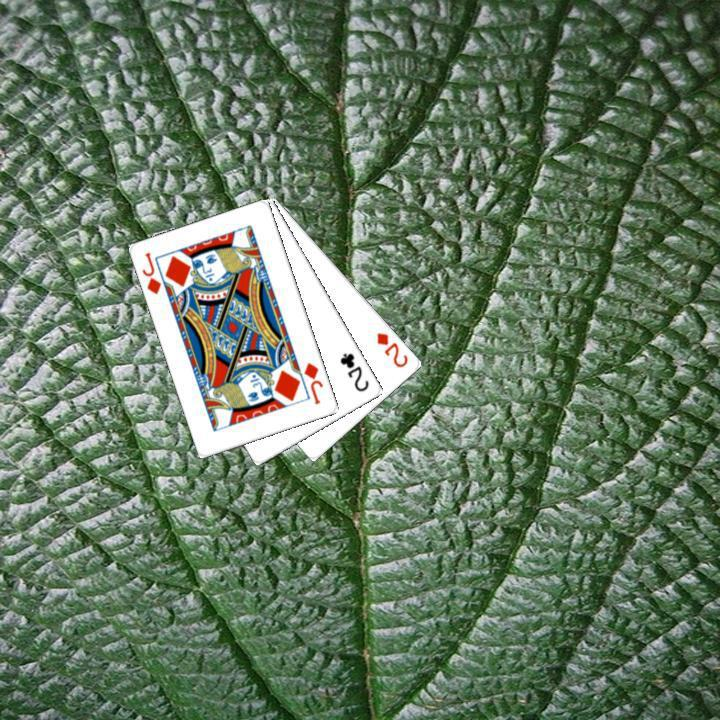2: (336, 349, 371, 394), (373, 328, 410, 370)
J: (138, 248, 164, 297), (300, 358, 325, 406)
